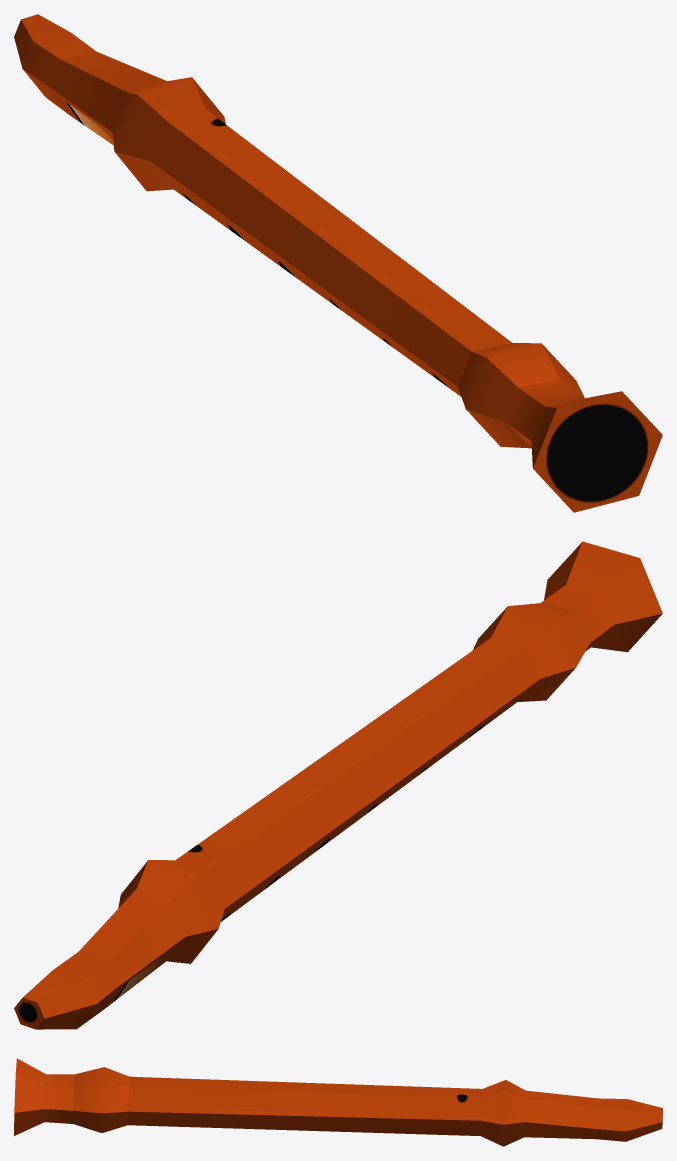
File: Flauta2_000007.obj
3 views of the same model, one above another, from view 1: azimuth 30°, elevation 25°; view 2: azimuth 150°, elevation 25°; view 3: azimuth 270°, elevation 25° (orthographic). The views are drawn at different scales.
Parts seen in each view (by area): view 1: f2_Flauta_1:pCylinder3; view 2: f2_Flauta_1:pCylinder3; view 3: f2_Flauta_1:pCylinder3.
Boxes of the visible parts, x1=… form: f2_Flauta_1:pCylinder3: x1=14, y1=14, x2=662, y2=512; f2_Flauta_1:pCylinder3: x1=14, y1=541, x2=662, y2=1029; f2_Flauta_1:pCylinder3: x1=14, y1=1058, x2=662, y2=1146.
Size of the model in its own units: 0.6938 by 0.584 by 5.1.
